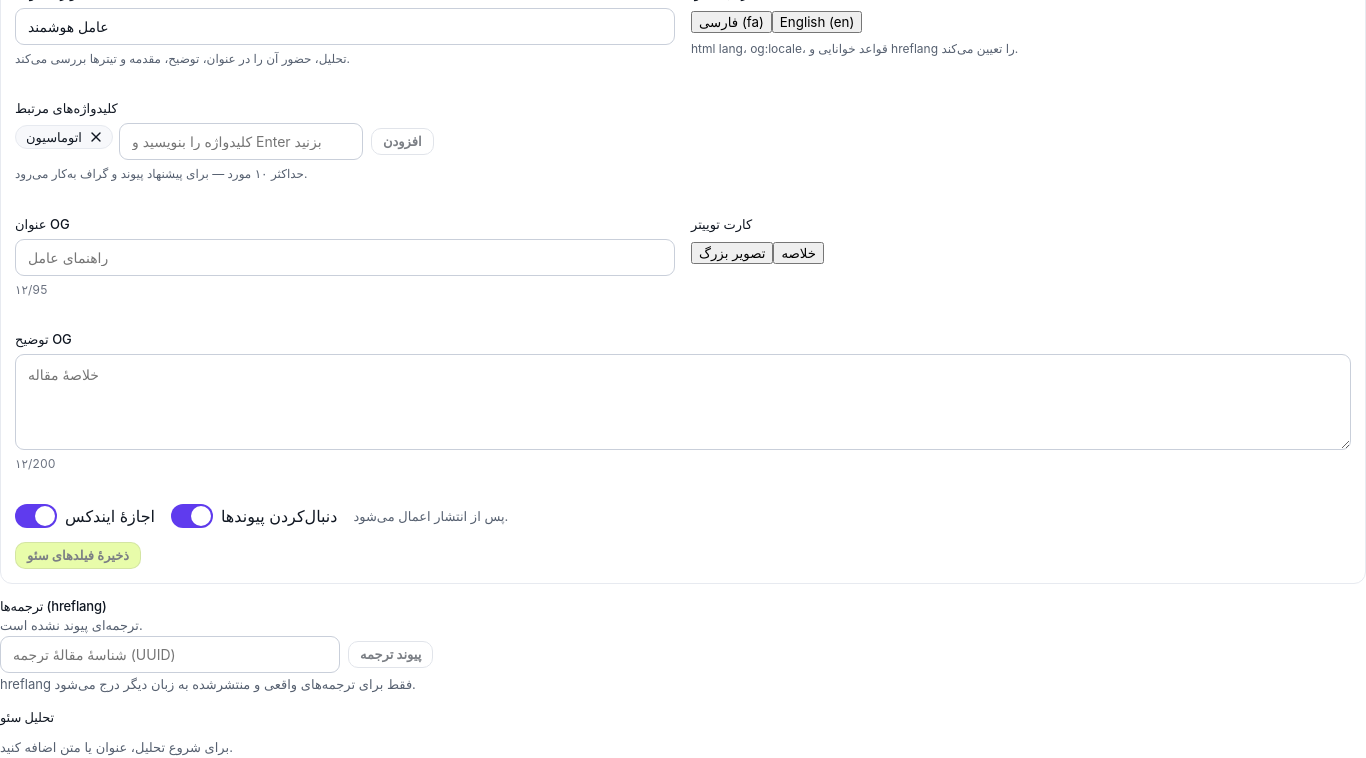
it: SeoStudioPanel › links and unlinks translations with validation
(page scrolled)
In the field with placeholder "شناسهٔ مقالهٔ ترجمه (UUID)": (170, 655) [0,636,340,673], type "nope"
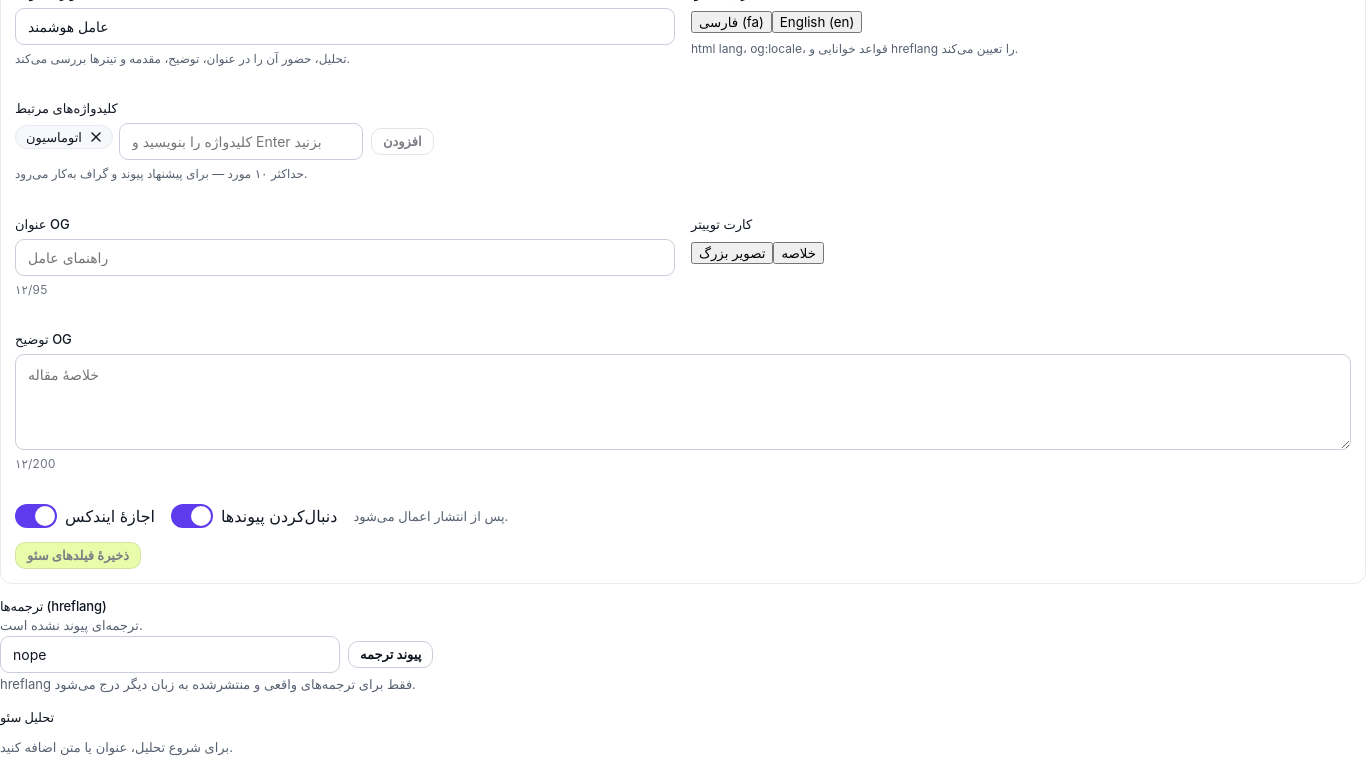
Click the button "پیوند ترجمه": click(391, 655) [348,641,433,668]
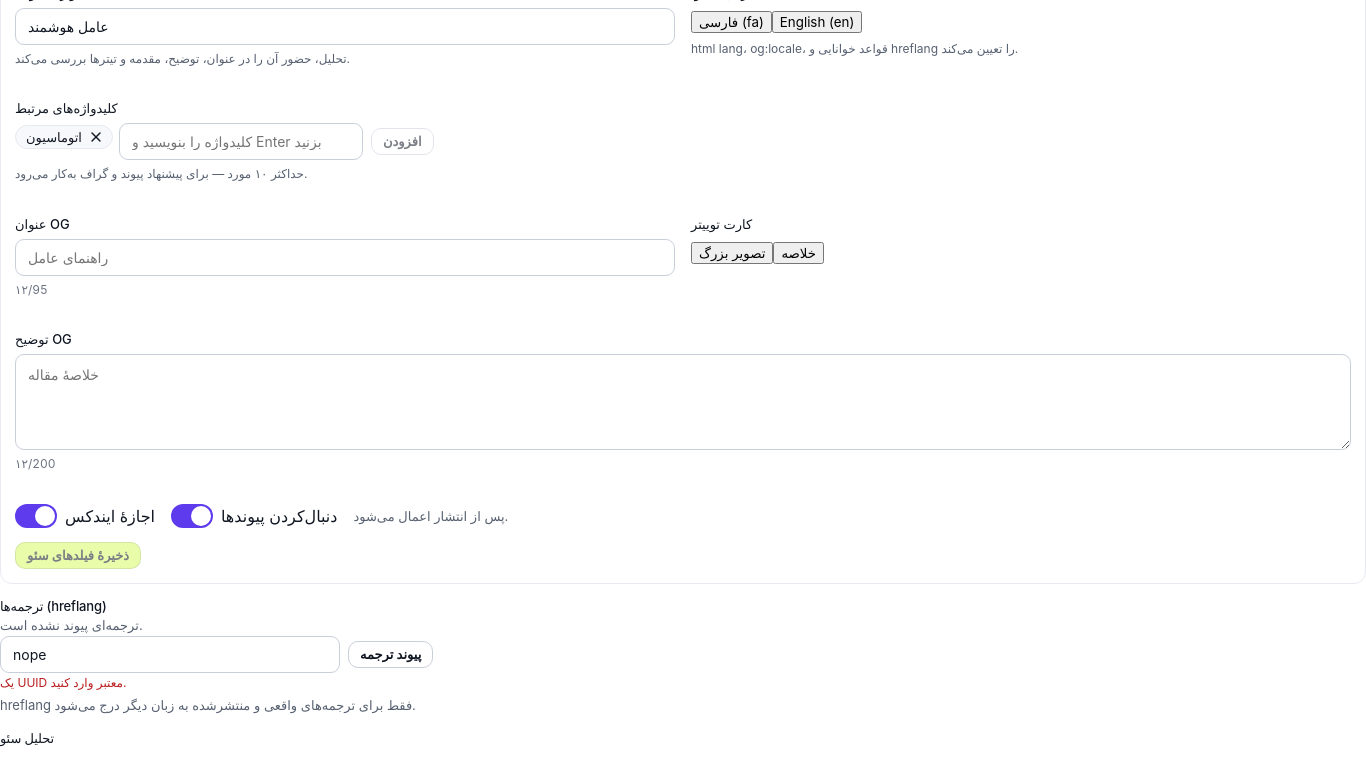
Expected: the message shows "UUID", [0,675,126,690]
Replace the text in the field with placeholder "شناسهٔ مقالهٔ ترجمه (UUID)" with "11111111-2222-3333-4444-555555555555": (170, 655) [0,636,340,673]
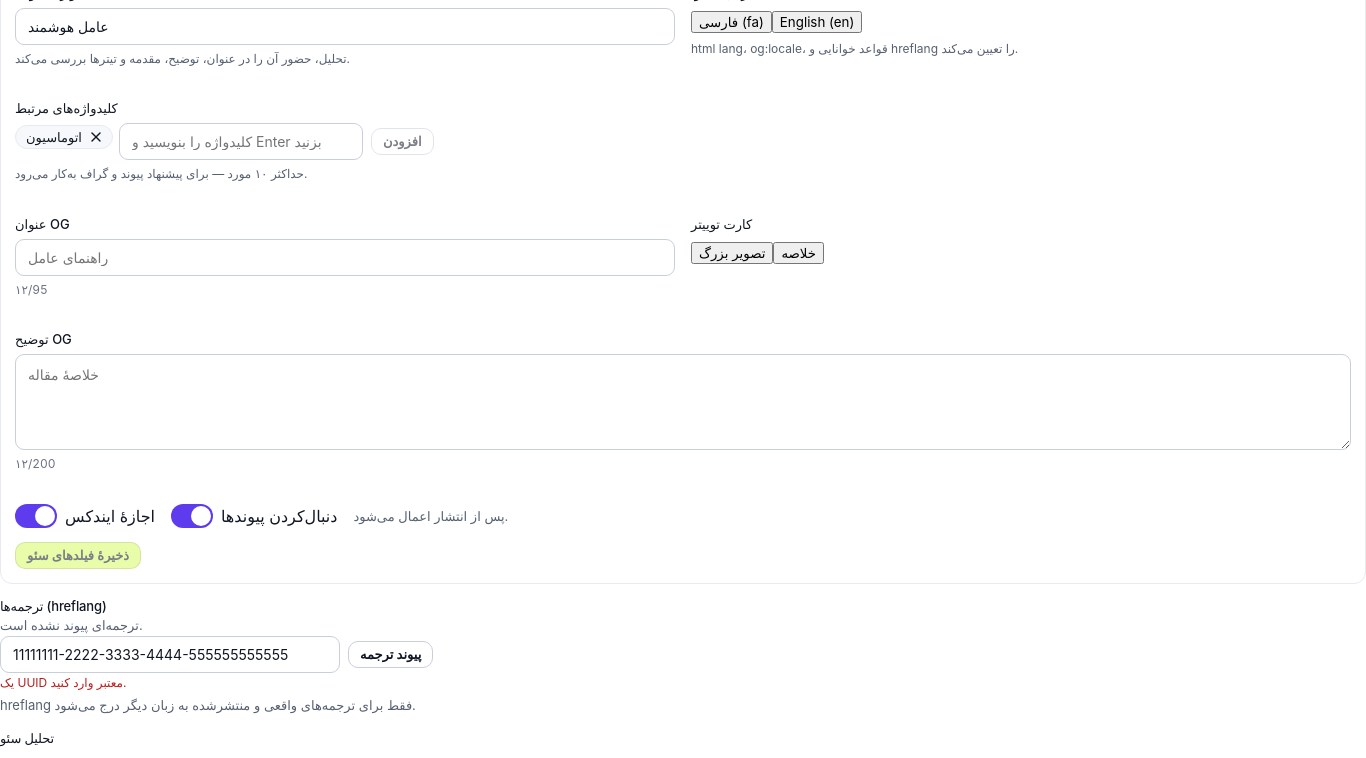
Click the button "پیوند ترجمه": click(391, 655) [348,641,433,668]
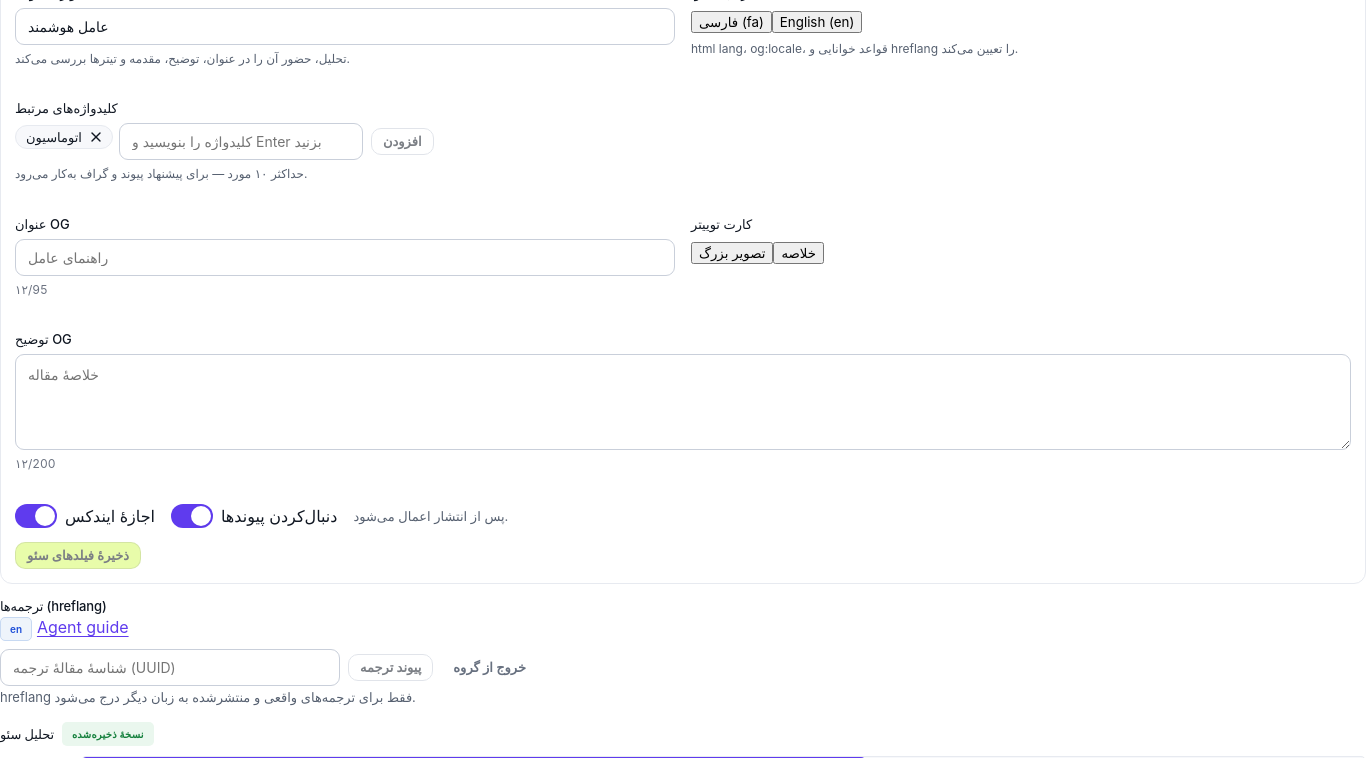
Expected: the link "Agent guide" is shown, [37,617,128,637]
Click the button "خروج از گروه": click(490, 668) [441,654,538,681]
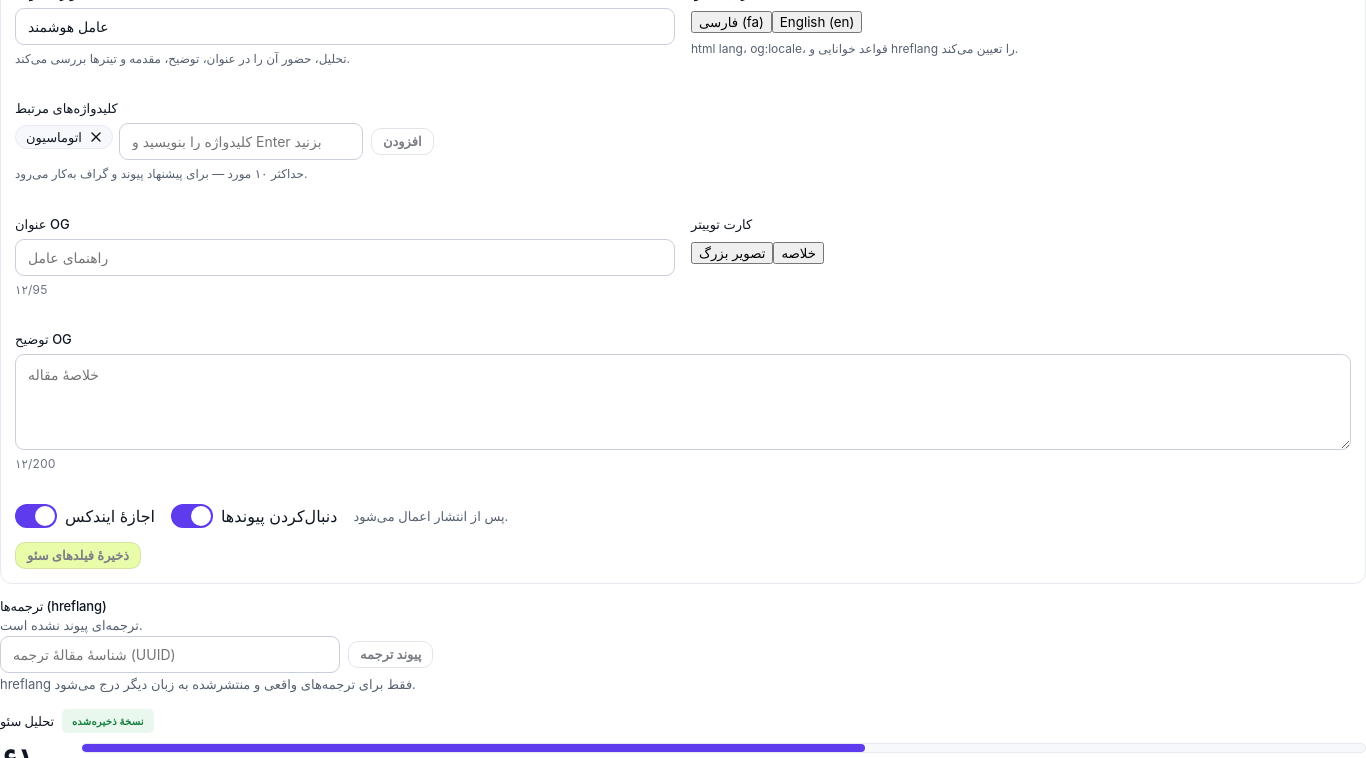
Expected: the link "Agent guide" is gone
